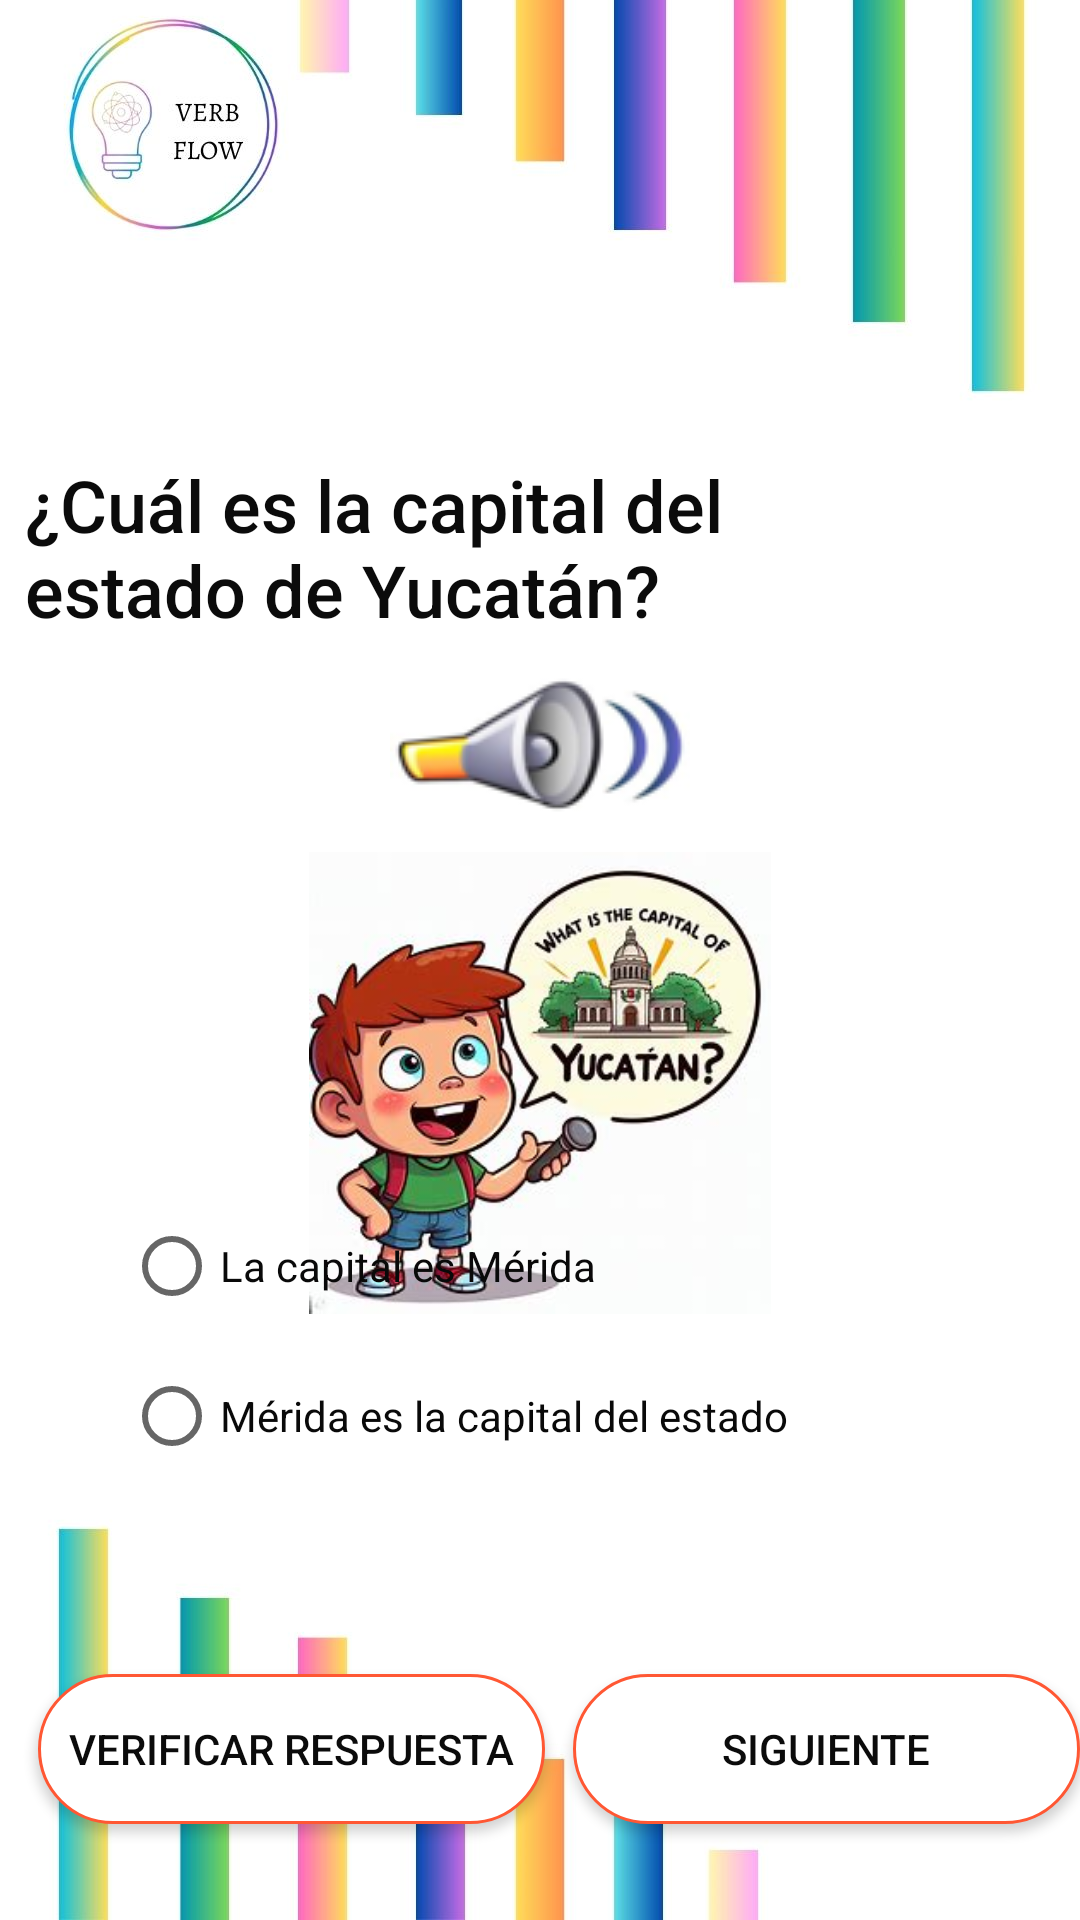

Icons on this 1080w x 1920h Android screen, each with the point to tap as (x=x, y=y):
altavoz: (x=539, y=745)
